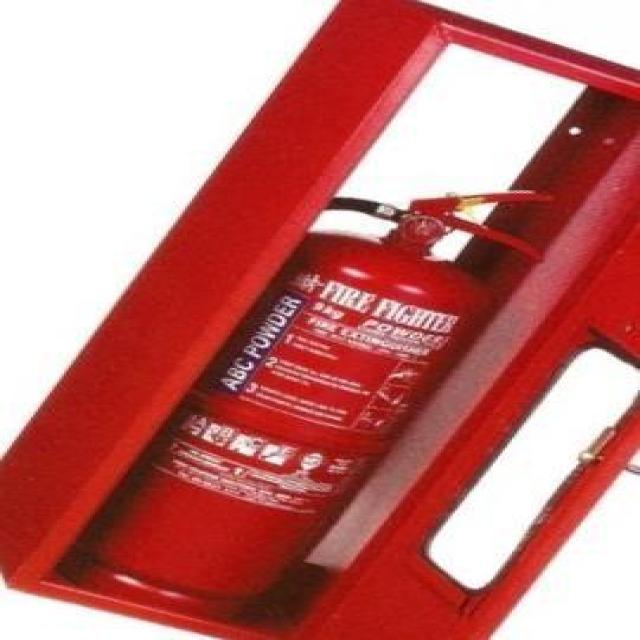fire_extinguisher: (36, 181, 560, 623)
